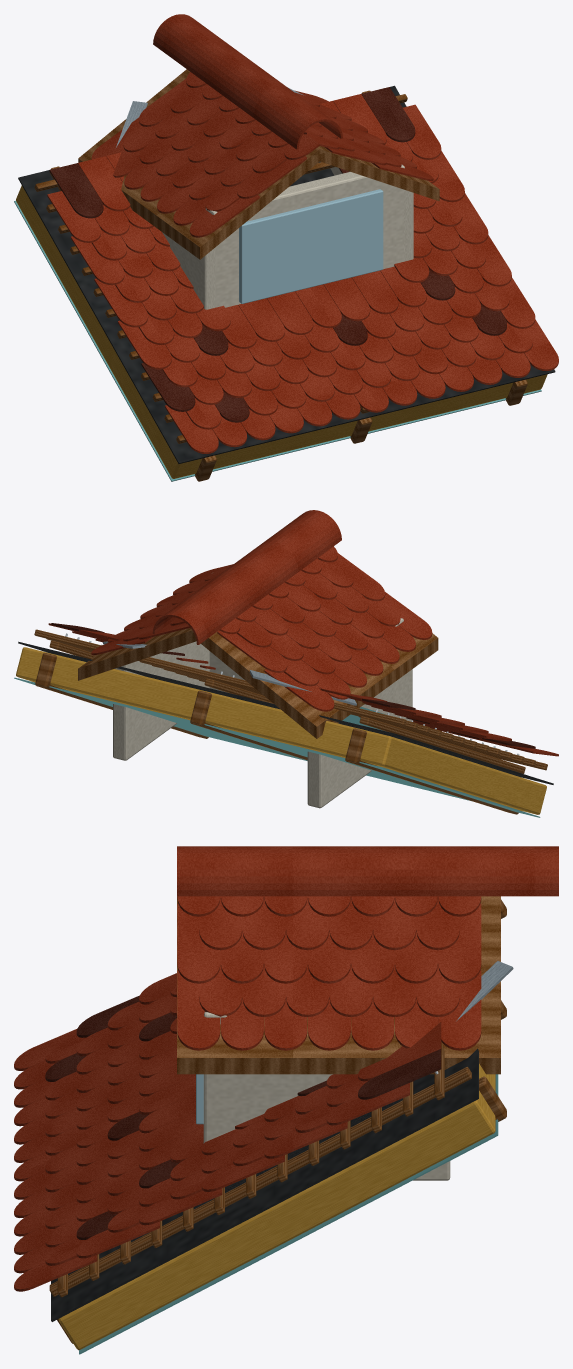
Rendered from modell.glb.
3 renders of one model, top to bottom at view 1: azimuth 30°, elevation 25°; view 2: azimuth 150°, elevation 25°; view 3: azimuth 270°, elevation 25°, orthographic. The views are drawn at different scales.
Visible parts, largest first — view 1: s10-deckziegel_deckung, s10-gaubendach_deckung, s10-wange_.001, s10-daemmung_daemmung, s10-wange_, s10-zusatzebene_zusatzebene, s10-deckziegel_deckung.001, s10-gaubendach_tragwerk, s10-luftdichtheit_luftdichtheit, s10-lattung_lattung, s10-sparren_tragwerk; view 2: s10-gaubendach_deckung, s10-daemmung_daemmung, s10-wange_, s10-gaubendach_tragwerk, s10-lattung_lattung, s10-luftdichtheit_luftdichtheit, s10-sparren_tragwerk, s10-deckziegel_deckung, s10-zusatzebene_zusatzebene, s10-deckziegel_deckung.001, s10-kehle_deckung; view 3: s10-gaubendach_deckung, s10-deckziegel_deckung, s10-daemmung_daemmung, s10-zusatzebene_zusatzebene, s10-gaubendach_tragwerk, s10-lattung_lattung, s10-deckziegel_deckung.001, s10-wange_, s10-luftdichtheit_luftdichtheit, s10-sparren_tragwerk, s10-kehle_deckung.
Boxes of the visible parts, bbox=[...] form: s10-deckziegel_deckung: bbox=[47, 94, 558, 453]; s10-gaubendach_deckung: bbox=[91, 14, 433, 237]; s10-wange_.001: bbox=[239, 189, 383, 303]; s10-daemmung_daemmung: bbox=[16, 185, 547, 478]; s10-wange_: bbox=[162, 164, 413, 309]; s10-zusatzebene_zusatzebene: bbox=[18, 85, 555, 463]; s10-deckziegel_deckung.001: bbox=[49, 87, 506, 422]; s10-gaubendach_tragwerk: bbox=[78, 69, 439, 259]; s10-luftdichtheit_luftdichtheit: bbox=[14, 200, 541, 481]; s10-lattung_lattung: bbox=[34, 90, 407, 443]; s10-sparren_tragwerk: bbox=[195, 379, 527, 481]; s10-gaubendach_deckung: bbox=[91, 510, 432, 711]; s10-daemmung_daemmung: bbox=[16, 647, 546, 814]; s10-wange_: bbox=[113, 618, 412, 808]; s10-gaubendach_tragwerk: bbox=[78, 628, 438, 738]; s10-lattung_lattung: bbox=[34, 629, 547, 773]; s10-luftdichtheit_luftdichtheit: bbox=[14, 677, 540, 817]; s10-sparren_tragwerk: bbox=[35, 653, 518, 814]; s10-deckziegel_deckung: bbox=[48, 623, 558, 756]; s10-zusatzebene_zusatzebene: bbox=[18, 641, 553, 784]; s10-deckziegel_deckung.001: bbox=[51, 623, 535, 748]; s10-kehle_deckung: bbox=[102, 641, 356, 705]; s10-gaubendach_deckung: bbox=[177, 846, 558, 1050]; s10-deckziegel_deckung: bbox=[14, 973, 441, 1291]; s10-daemmung_daemmung: bbox=[58, 1063, 495, 1350]; s10-zusatzebene_zusatzebene: bbox=[51, 1048, 478, 1321]; s10-gaubendach_tragwerk: bbox=[177, 896, 500, 1074]; s10-lattung_lattung: bbox=[49, 1042, 471, 1297]; s10-deckziegel_deckung.001: bbox=[45, 995, 441, 1239]; s10-wange_: bbox=[203, 1012, 450, 1180]; s10-luftdichtheit_luftdichtheit: bbox=[79, 1074, 498, 1354]; s10-sparren_tragwerk: bbox=[57, 899, 506, 1343]; s10-kehle_deckung: bbox=[456, 961, 513, 1021].
Bounding box in the file's own units: 2.39 × 1.78 × 2.26.
Materials: 10 (7 with a texture image).
